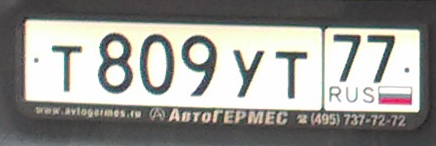character: (92, 31, 136, 95), (177, 34, 220, 99), (138, 31, 177, 98), (272, 47, 313, 105), (230, 44, 266, 104), (48, 41, 84, 98), (365, 28, 399, 85), (330, 29, 363, 85)
